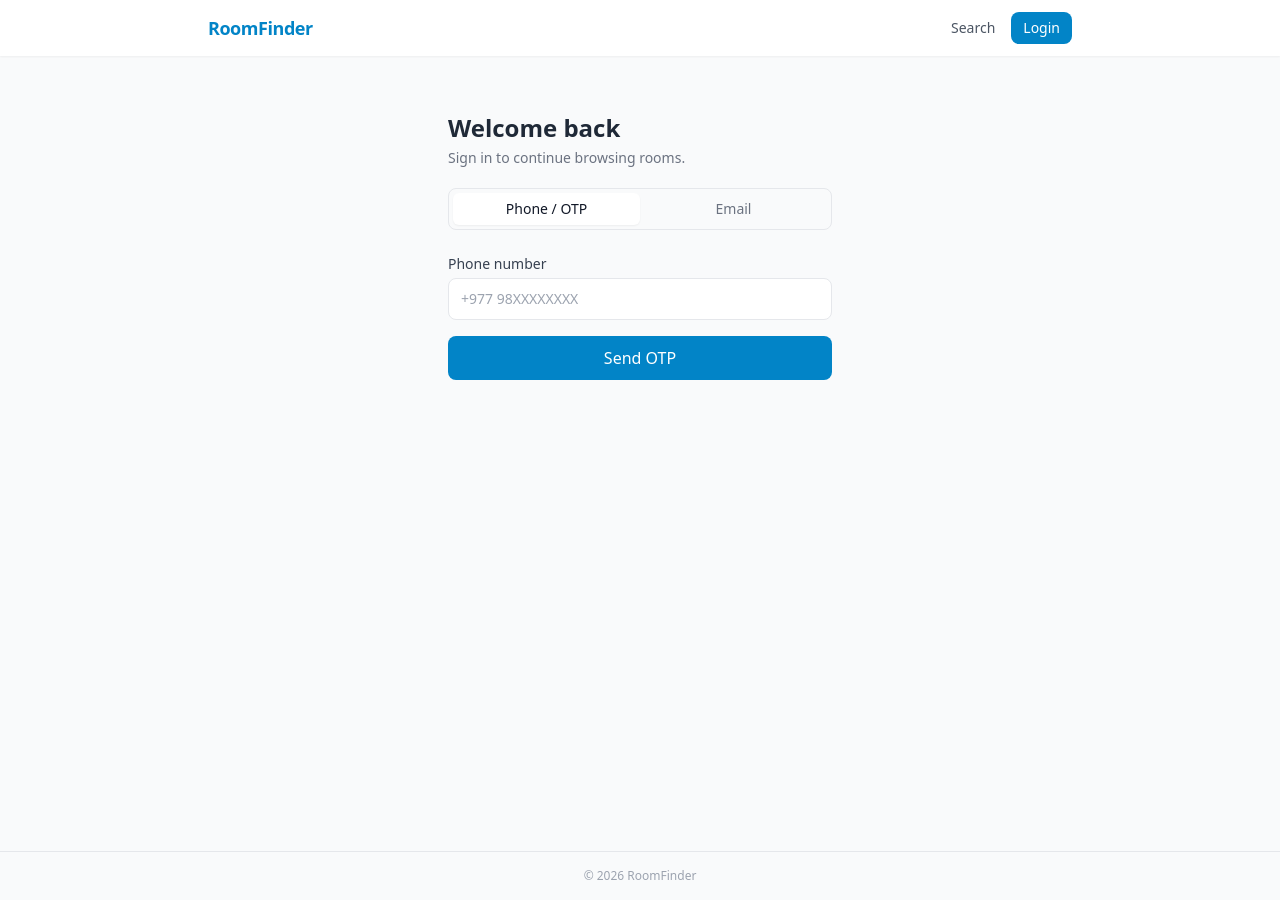
Scenario: LoginPage — Phone OTP flow › shows error on invalid phone format
In the field with placeholder "+977 98XXXXXXXX": (640, 299) [448, 278, 832, 320], type "123"
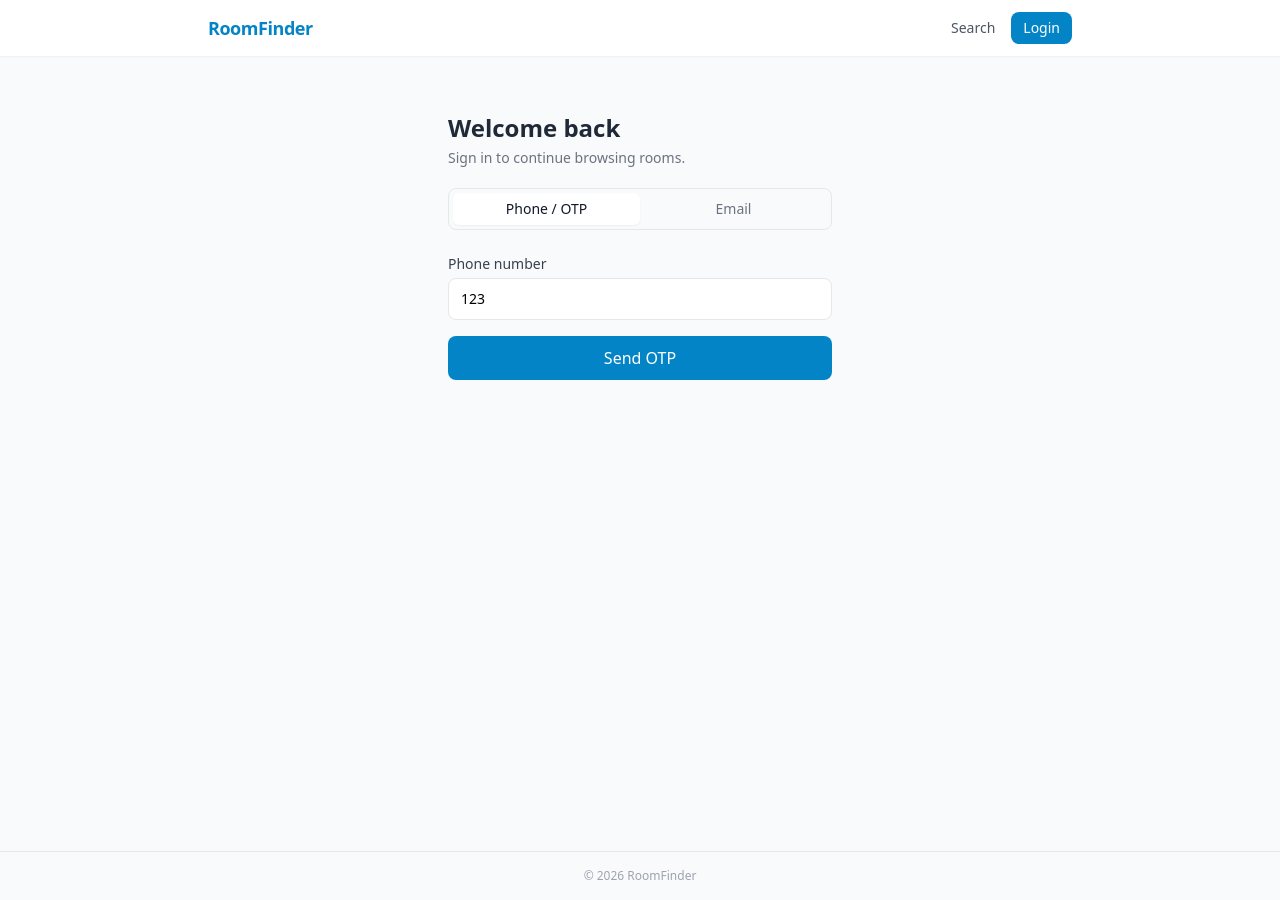
Click the button "Send OTP": click(640, 358) [448, 336, 832, 380]
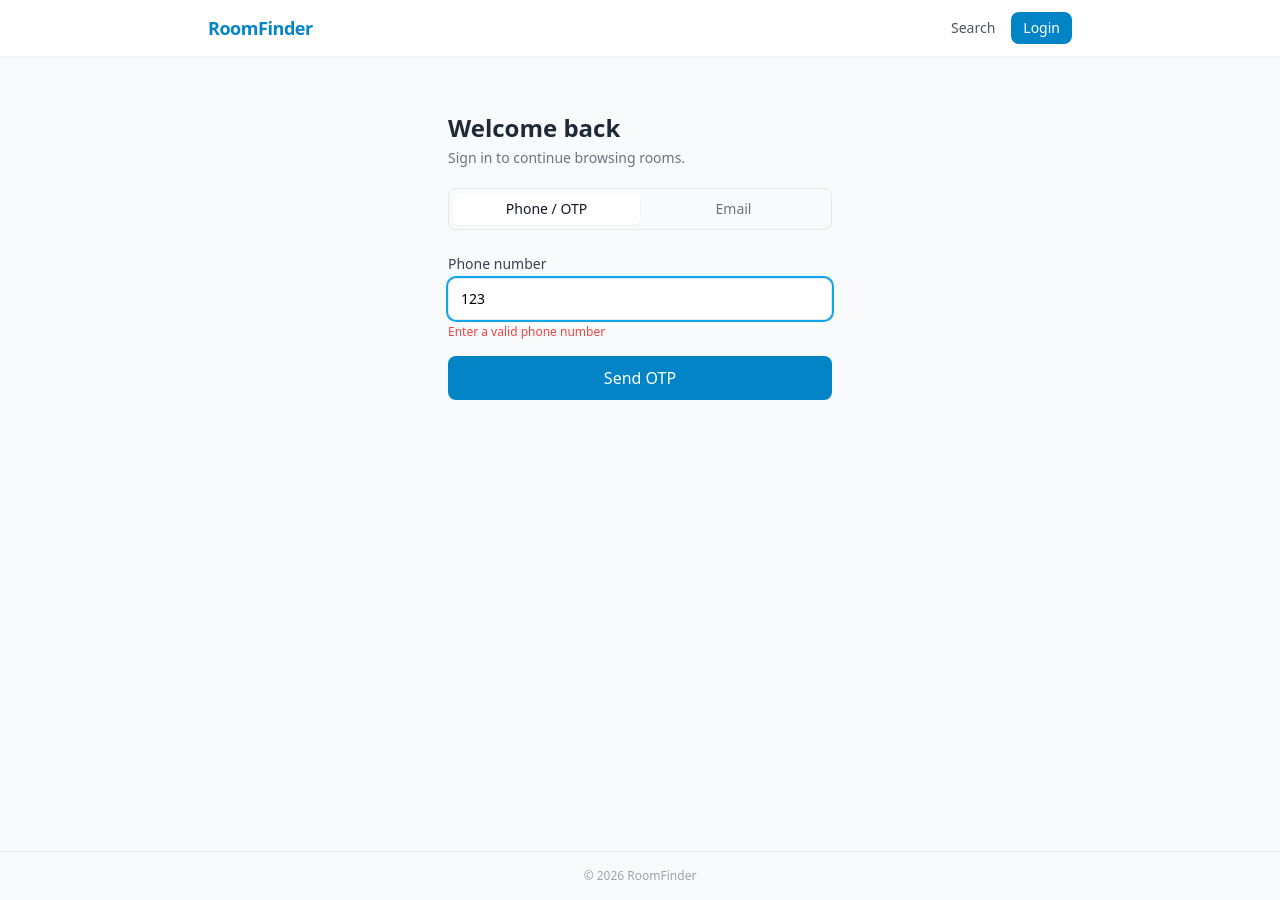
Result: the text "Enter a valid phone number" is shown at [448, 323, 605, 340]
